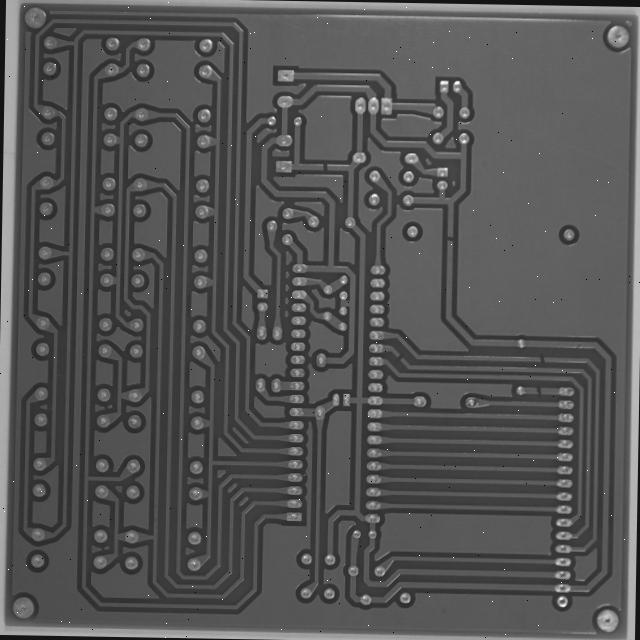open_circuit: (420, 255, 435, 270), (520, 425, 534, 440), (523, 390, 537, 403), (282, 177, 295, 191), (366, 390, 379, 403)
